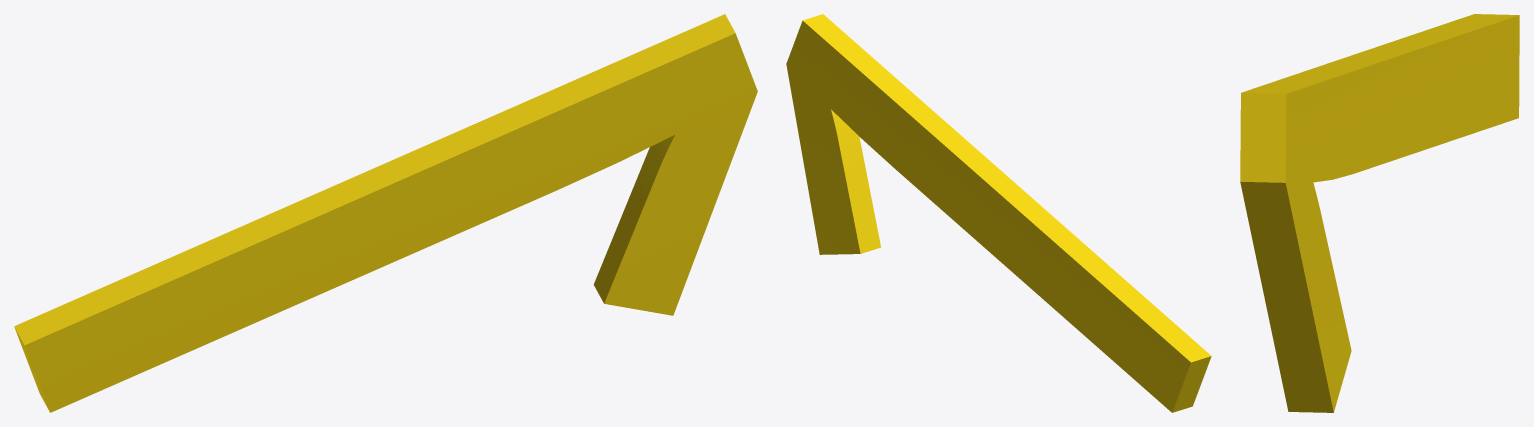
The model's file is Number_1.gltf.
The picture shows the model from 3 angles, left to right: view 1: azimuth 30°, elevation 25°; view 2: azimuth 150°, elevation 25°; view 3: azimuth 270°, elevation 25°; orthographic projection. The views are drawn at different scales.
Parts seen in each view (by area): view 1: Sub_5_Cell_3_3_Number_1; view 2: Sub_5_Cell_3_3_Number_1; view 3: Sub_5_Cell_3_3_Number_1.
Part boxes in pixels (x1,y1,x2,y2): Sub_5_Cell_3_3_Number_1: (14,14,757,412); Sub_5_Cell_3_3_Number_1: (786,14,1211,412); Sub_5_Cell_3_3_Number_1: (1240,14,1519,412).
Size of the model in its own units: 0.0241 by 0.0111 by 0.00754.
